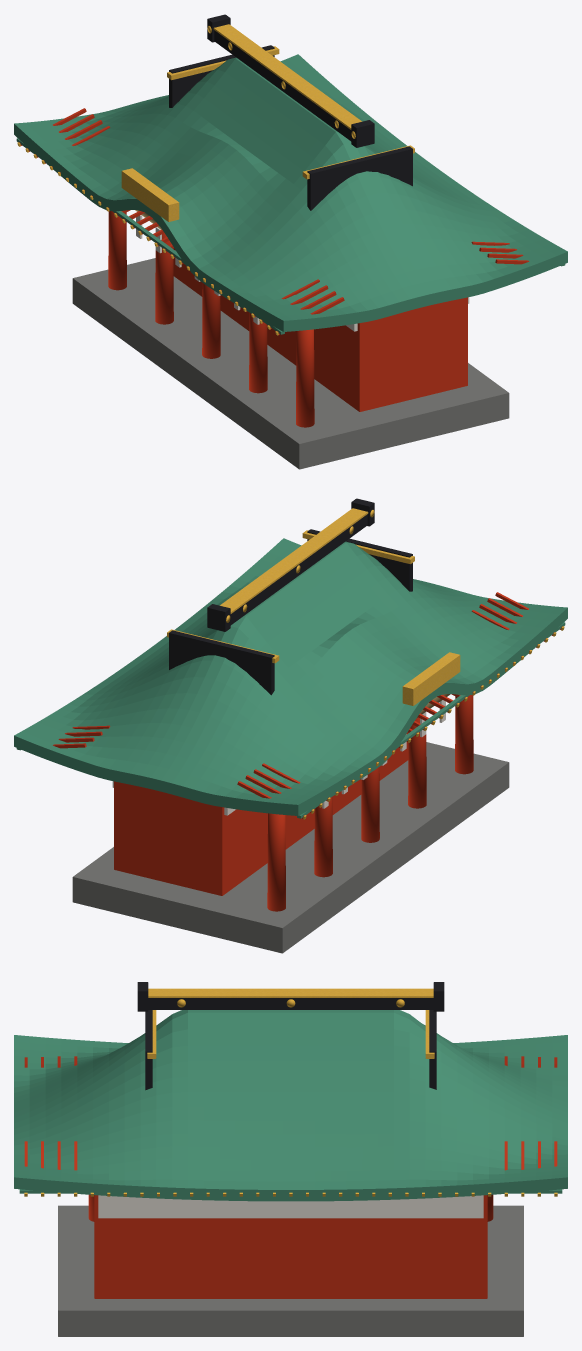
Rendered from Asset_07_Naihaiden_Karahafu_Hall.fbx.
3 views of the same model, one above another, from view 1: azimuth 30°, elevation 25°; view 2: azimuth 150°, elevation 25°; view 3: azimuth 270°, elevation 25° (orthographic). The views are drawn at different scales.
Parts seen in each view (by area): view 1: Z03_Naihaiden_Roof, Z03_Naihaiden_Podium, Z03_Naihaiden_InnerCore, Z03_Naihaiden_Roof_Gable_Pediment_-1, Z03_Naihaiden_Roof_Ridge_Gold_Cap, Z03_Naihaiden_FrontCol_-4.8, Z03_Naihaiden_Roof_Ridge_Beam, Z03_Naihaiden_Karahafu_Gold, Z03_Naihaiden_FrontCol_2.4, Z03_Naihaiden_FrontCol_4.8, Z03_Naihaiden_FrontCol_-2.4, Z03_Naihaiden_FrontCol_0.0 (+3 smaller); view 2: Z03_Naihaiden_Roof, Z03_Naihaiden_Podium, Z03_Naihaiden_InnerCore, Z03_Naihaiden_Roof_Gable_Pediment_1, Z03_Naihaiden_Roof_Ridge_Gold_Cap, Z03_Naihaiden_FrontCol_4.8, Z03_Naihaiden_Roof_Ridge_Beam, Z03_Naihaiden_Karahafu_Gold, Z03_Naihaiden_FrontCol_-2.4, Z03_Naihaiden_FrontCol_-4.8, Z03_Naihaiden_FrontCol_2.4, Z03_Naihaiden_FrontCol_0.0 (+3 smaller); view 3: Z03_Naihaiden_Roof, Z03_Naihaiden_InnerCore, Z03_Naihaiden_Podium, Z03_Naihaiden_Shikku, Z03_Naihaiden_Roof_Ridge_Beam, Z03_Naihaiden_Roof_Ridge_Gold_Cap, Z03_Naihaiden_Roof_Copper_Gutter_4.1, Z03_Naihaiden_Roof_Gable_Pediment_-1, Z03_Naihaiden_Roof_Gable_Pediment_1.
Part boxes in pixels (box(x1,y1,x2,y2)): Z03_Naihaiden_Roof: box(14, 54, 567, 331); Z03_Naihaiden_Podium: box(72, 258, 509, 469); Z03_Naihaiden_InnerCore: box(173, 248, 467, 411); Z03_Naihaiden_Roof_Gable_Pediment_-1: box(307, 146, 412, 210); Z03_Naihaiden_Roof_Ridge_Gold_Cap: box(213, 24, 361, 129); Z03_Naihaiden_FrontCol_-4.8: box(296, 329, 314, 427); Z03_Naihaiden_Roof_Ridge_Beam: box(214, 30, 351, 141); Z03_Naihaiden_Karahafu_Gold: box(121, 168, 179, 221); Z03_Naihaiden_FrontCol_2.4: box(155, 233, 173, 324); Z03_Naihaiden_FrontCol_4.8: box(108, 211, 126, 290); Z03_Naihaiden_FrontCol_-2.4: box(249, 312, 267, 393); Z03_Naihaiden_FrontCol_0.0: box(202, 283, 220, 358); Z03_Naihaiden_Roof: box(14, 538, 567, 815); Z03_Naihaiden_Podium: box(72, 742, 509, 953); Z03_Naihaiden_InnerCore: box(114, 732, 408, 895); Z03_Naihaiden_Roof_Gable_Pediment_1: box(169, 630, 274, 695); Z03_Naihaiden_Roof_Ridge_Gold_Cap: box(220, 508, 368, 613); Z03_Naihaiden_FrontCol_4.8: box(267, 813, 285, 911); Z03_Naihaiden_Roof_Ridge_Beam: box(230, 514, 367, 625); Z03_Naihaiden_Karahafu_Gold: box(402, 652, 460, 705); Z03_Naihaiden_FrontCol_-2.4: box(408, 717, 426, 808); Z03_Naihaiden_FrontCol_-4.8: box(455, 695, 473, 774); Z03_Naihaiden_FrontCol_2.4: box(314, 796, 332, 877); Z03_Naihaiden_FrontCol_0.0: box(361, 767, 379, 842); Z03_Naihaiden_Roof: box(14, 1010, 567, 1201); Z03_Naihaiden_InnerCore: box(94, 1195, 487, 1298); Z03_Naihaiden_Podium: box(58, 1205, 523, 1336); Z03_Naihaiden_Shikku: box(98, 1195, 483, 1218); Z03_Naihaiden_Roof_Ridge_Beam: box(148, 998, 433, 1009); Z03_Naihaiden_Roof_Ridge_Gold_Cap: box(148, 988, 433, 997); Z03_Naihaiden_Roof_Copper_Gutter_4.1: box(19, 1189, 562, 1193); Z03_Naihaiden_Roof_Gable_Pediment_-1: box(145, 1010, 152, 1090); Z03_Naihaiden_Roof_Gable_Pediment_1: box(429, 1010, 436, 1089).
Bounding box in the file's own units: 856 × 818 × 1380.
Materials: 7 (1 with a texture image).
